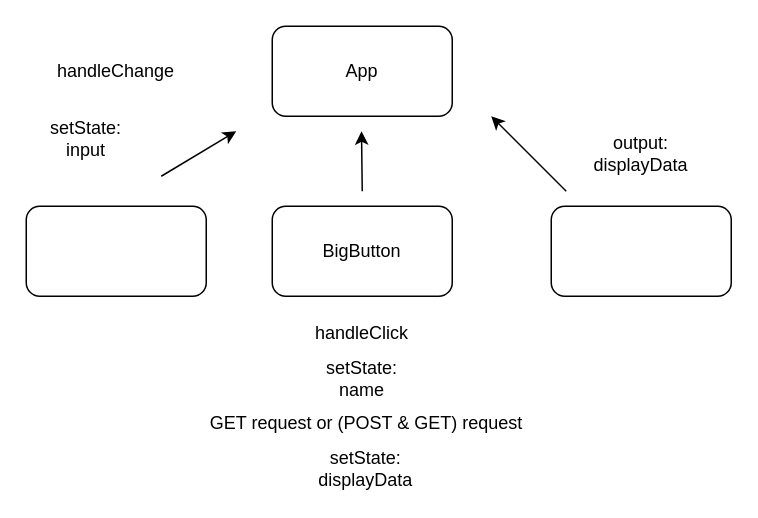
This 758x518 diagram has some shape labels left out. Each missing label, with the box of its shape:
DisplayResult: (550, 205, 731, 296)
InputBox: (25, 205, 206, 296)
